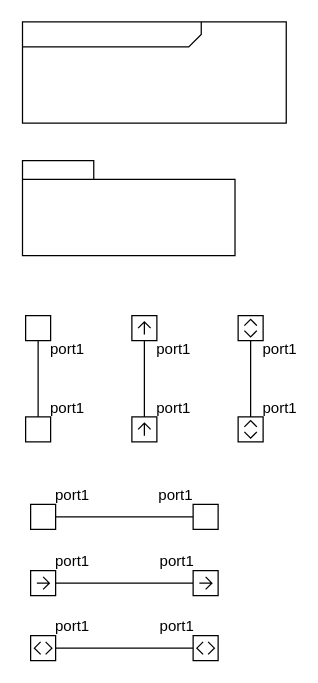
This 318x683 diagram has some shape labels left out. The shapes that lost their labels are listed below. From the top down, each one's box as (x1, y1, x2, y2) in pixels, then its label:
(21, 21, 286, 123): bdd System Context
(21, 159, 235, 256): Package1
